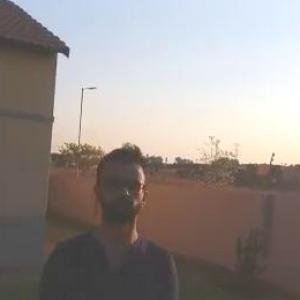follow: (31, 141, 186, 299)
